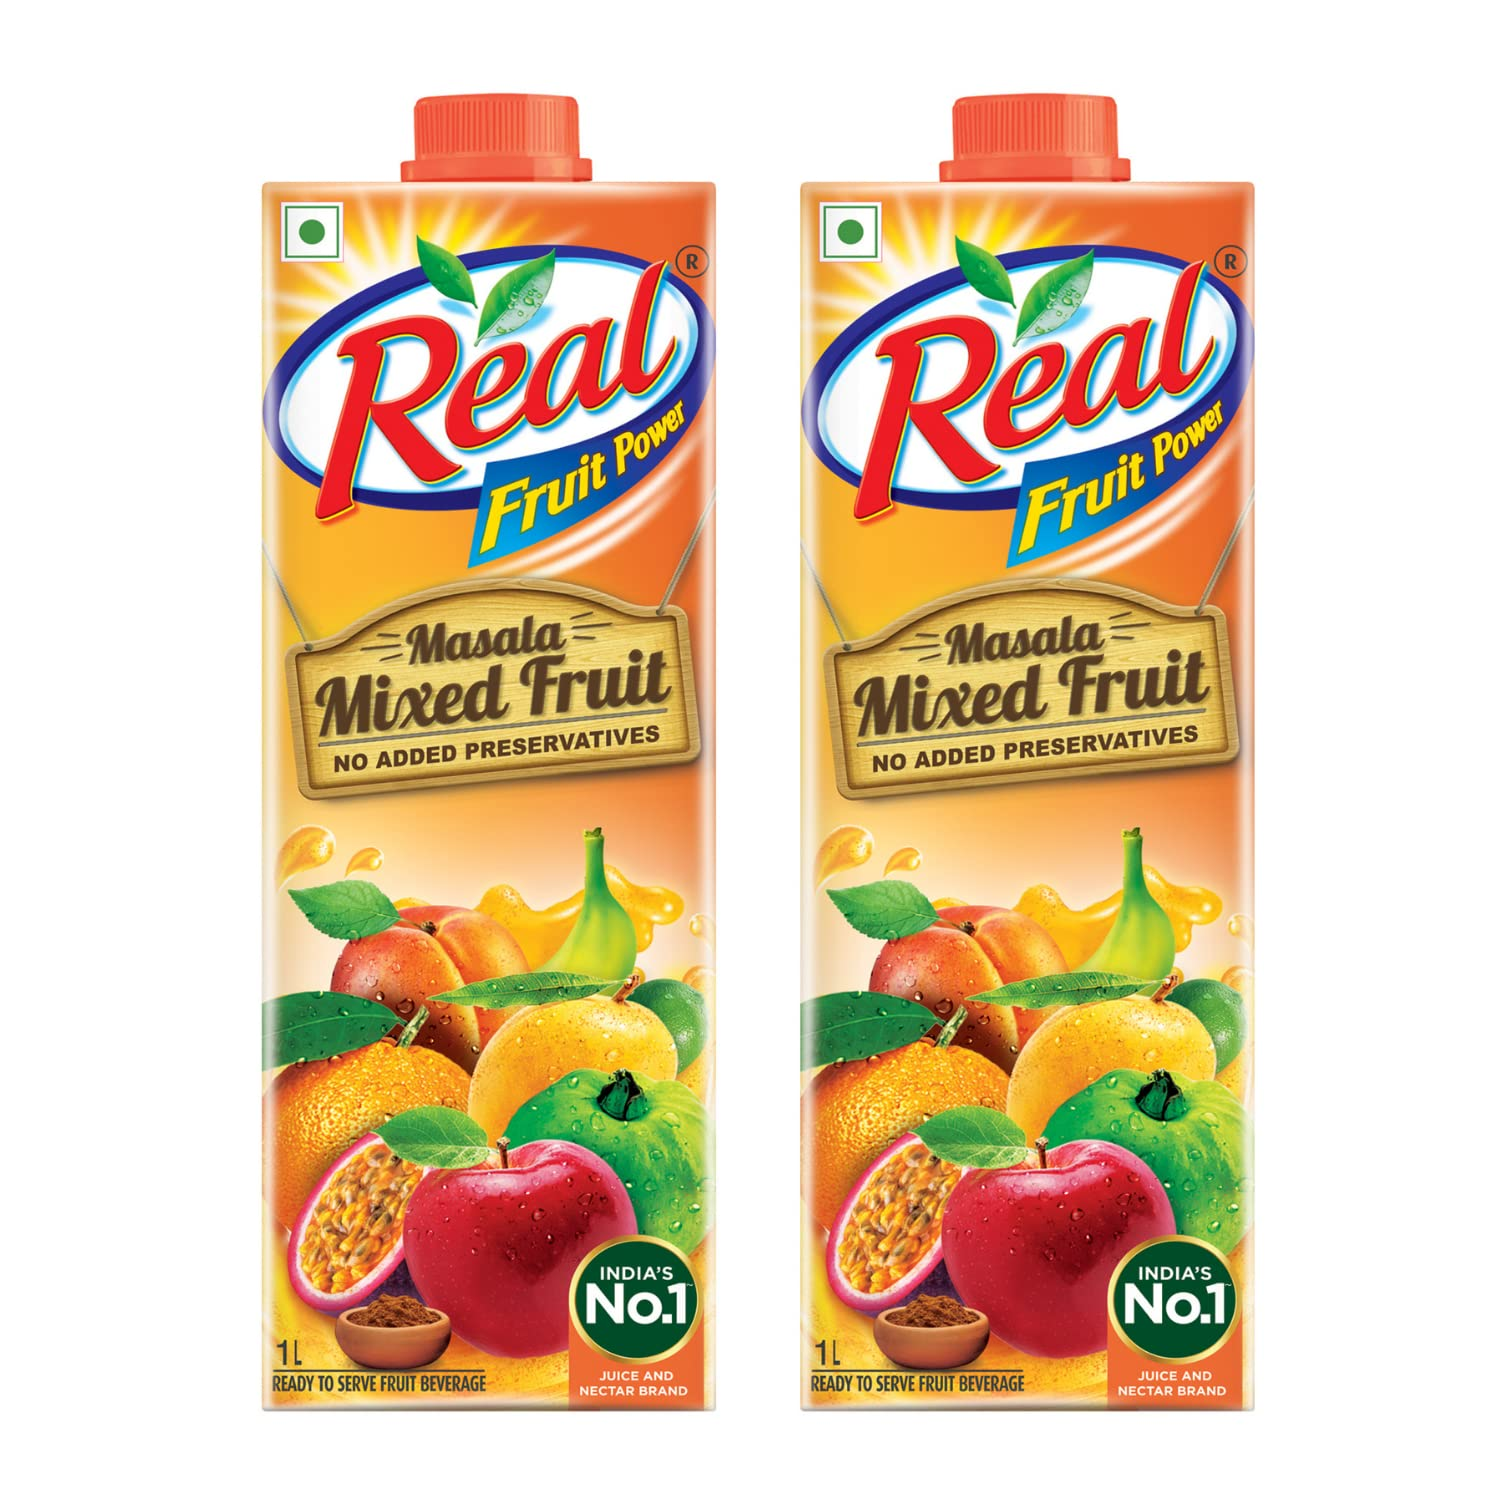veg: (280, 213, 365, 290), (810, 205, 897, 272)
